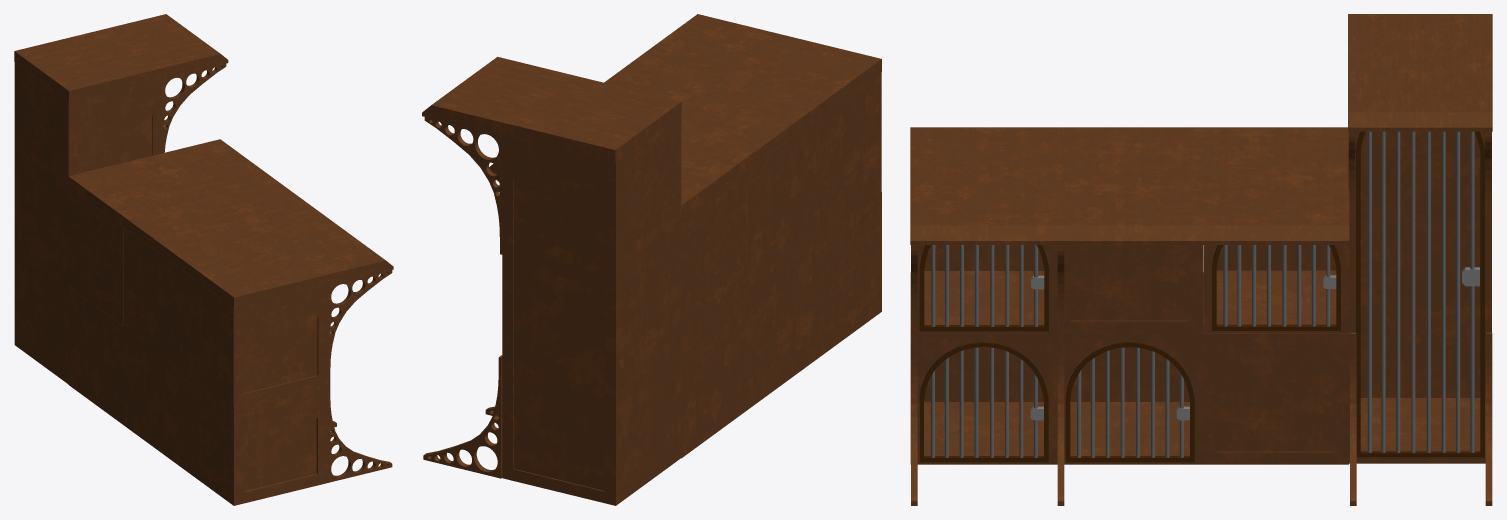
Rendered from Big cage combination with long cage.glb.
3 renders of one model, left to right at view 1: azimuth 30°, elevation 25°; view 2: azimuth 150°, elevation 25°; view 3: azimuth 270°, elevation 25°, orthographic. The views are drawn at different scales.
Parts seen in each view (by area): view 1: Cube.062, Cube.056, Cube.057, Cube.040, Cube.037, Cube.063, Cube.051, Cube.047, Cube.043, Cube.045; view 2: Cube.056, Cube.062, Cube.057, Cube.037, Cube.063, Cube.051, Cube.040, Cube.050, Cube.046; view 3: Cube.062, Cube.037, Cube.056, Cube.057, Cube.063, Cube.040, Cube.051, Cube.055, Cube.039, Cube.042, Cube.059, Cube.053 (+14 smaller).
Boxes of the visible parts, x1=… form: Cube.062: x1=68, y1=139, x2=393, y2=308; Cube.056: x1=14, y1=62, x2=162, y2=384; Cube.057: x1=123, y1=227, x2=328, y2=406; Cube.040: x1=178, y1=367, x2=328, y2=505; Cube.037: x1=68, y1=286, x2=178, y2=465; Cube.063: x1=14, y1=14, x2=228, y2=101; Cube.051: x1=68, y1=187, x2=123, y2=325; Cube.047: x1=328, y1=383, x2=392, y2=482; Cube.043: x1=328, y1=270, x2=392, y2=383; Cube.045: x1=162, y1=63, x2=226, y2=153; Cube.056: x1=502, y1=115, x2=681, y2=505; Cube.062: x1=489, y1=14, x2=881, y2=217; Cube.057: x1=748, y1=72, x2=881, y2=289; Cube.037: x1=681, y1=241, x2=814, y2=458; Cube.063: x1=422, y1=57, x2=681, y2=163; Cube.051: x1=681, y1=170, x2=747, y2=338; Cube.040: x1=815, y1=192, x2=881, y2=360; Cube.050: x1=423, y1=355, x2=502, y2=478; Cube.046: x1=424, y1=117, x2=502, y2=254; Cube.062: x1=910, y1=127, x2=1349, y2=244; Cube.037: x1=1056, y1=272, x2=1348, y2=464; Cube.056: x1=1349, y1=131, x2=1491, y2=463; Cube.057: x1=917, y1=245, x2=1202, y2=333; Cube.063: x1=1348, y1=14, x2=1492, y2=131; Cube.040: x1=910, y1=272, x2=1056, y2=464; Cube.051: x1=1203, y1=245, x2=1349, y2=333; Cube.055: x1=1356, y1=131, x2=1484, y2=457; Cube.039: x1=1065, y1=342, x2=1194, y2=462; Cube.042: x1=919, y1=342, x2=1048, y2=462; Cube.059: x1=919, y1=245, x2=1048, y2=331; Cube.053: x1=1212, y1=245, x2=1340, y2=330.
Size of the model in its own units: 10.74 by 18.91 by 25.61.
Materials: 4 (4 with a texture image).
